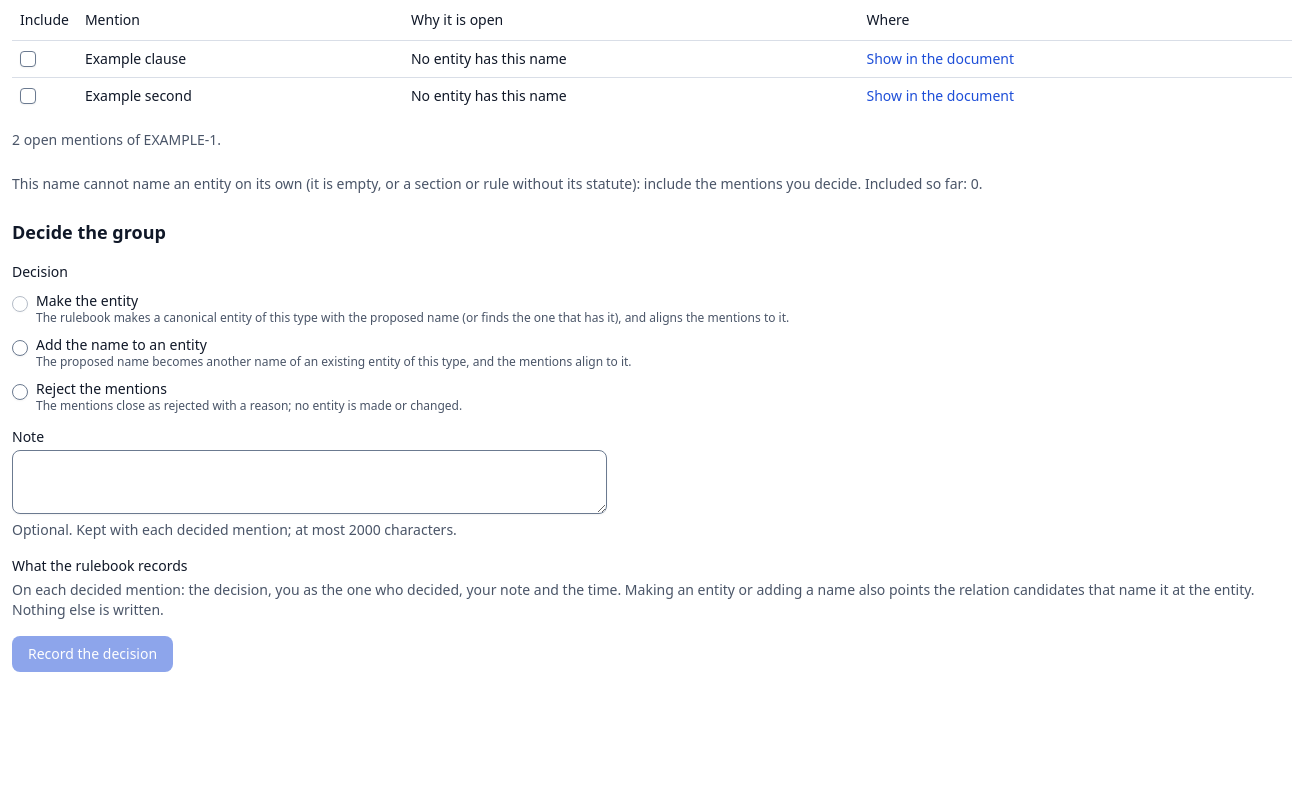
Test: DecisionPanel › keeps making an entity off for a name that cannot name one, and asks for mentions
The width and height of the screenshot is (1292, 800).
Check: the radio button named "Make the entity" next to "Make the entity" is disabled, box [12, 296, 28, 312]
Check: the text "include the mentions you decide" is shown, box [12, 174, 982, 192]
Click the radio button named "Reject the mentions" next to "Reject the mentions" at point(20, 392), box [12, 384, 28, 400]
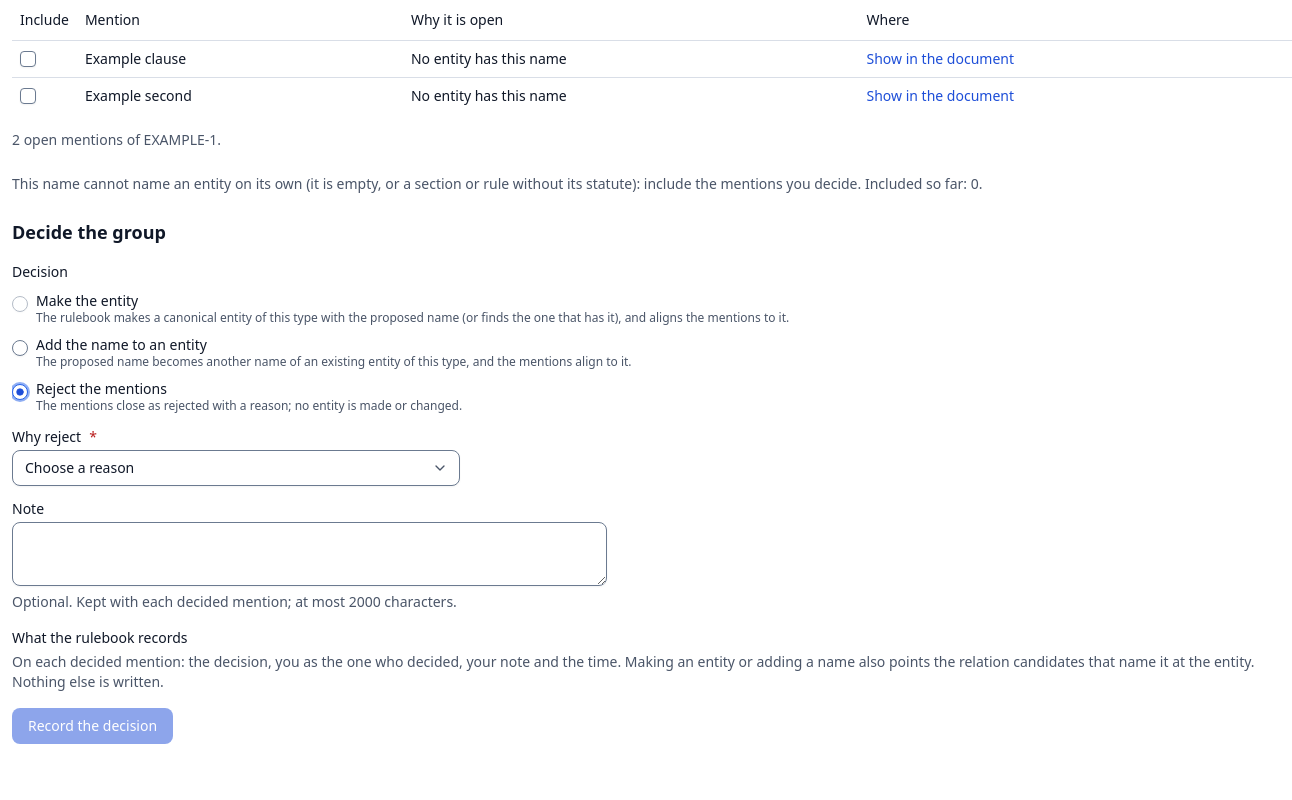
Select "A slip in the source text" in the dropdown labelled "Why reject *" at point(236, 468), box [12, 450, 460, 486]
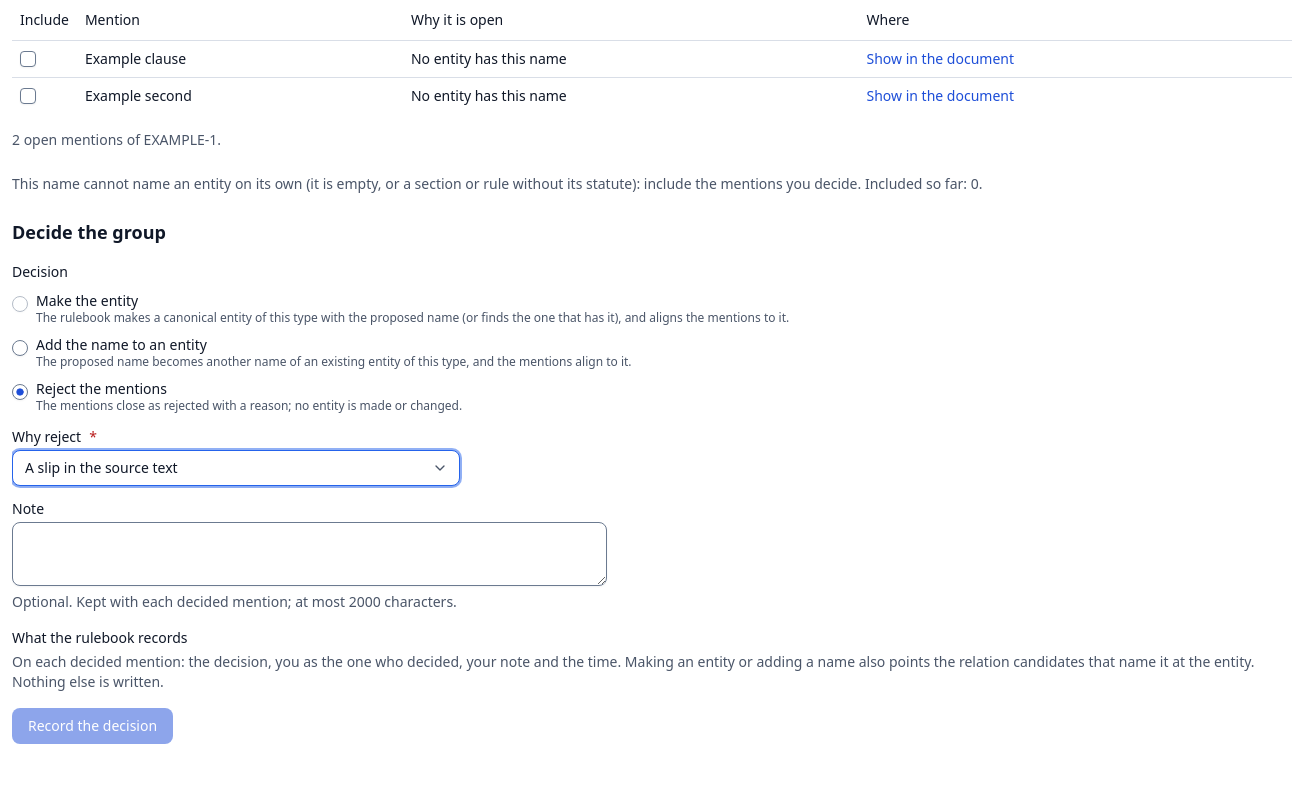
Check: the button "Record the decision" is disabled, box [12, 708, 173, 744]
Click the checkbox named "Include the mention Example second" at point(28, 96), box [20, 88, 36, 104]
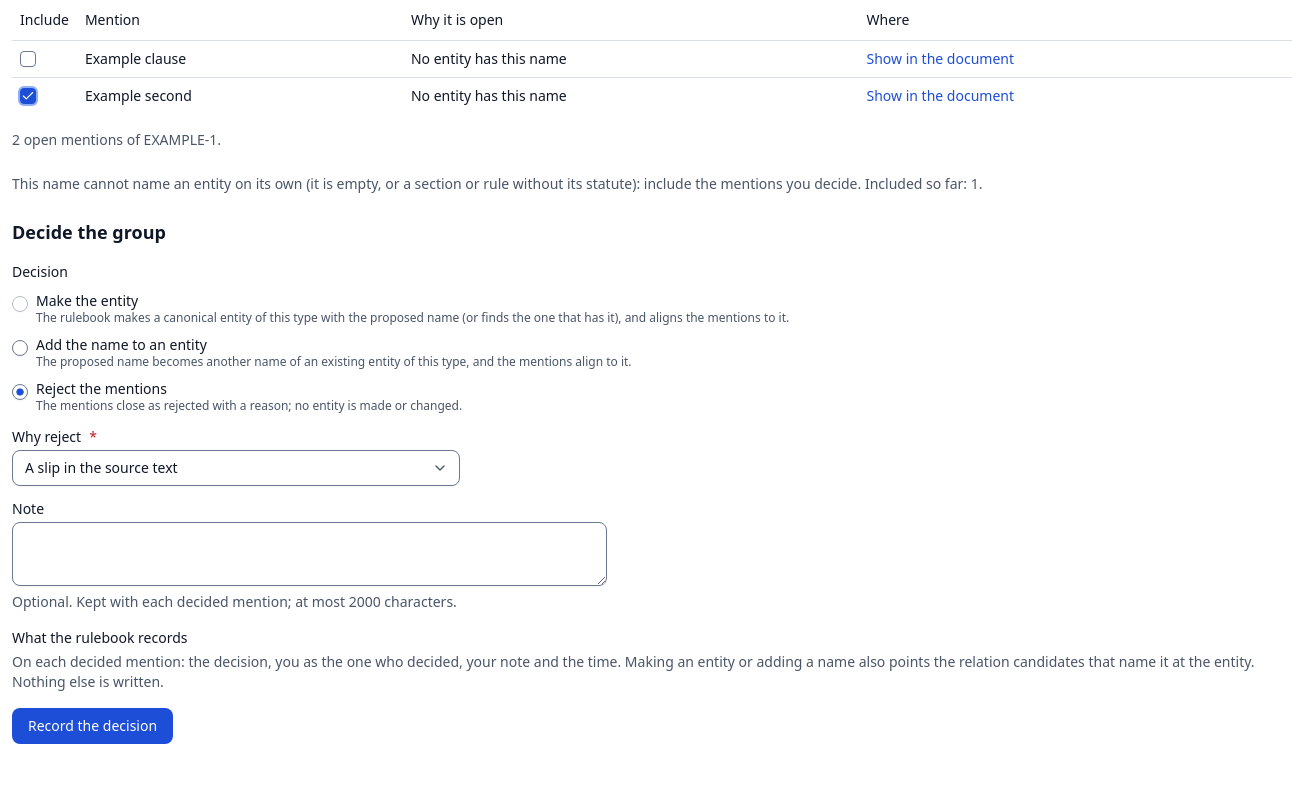
Check: the button "Record the decision" is enabled, box [12, 708, 173, 744]
